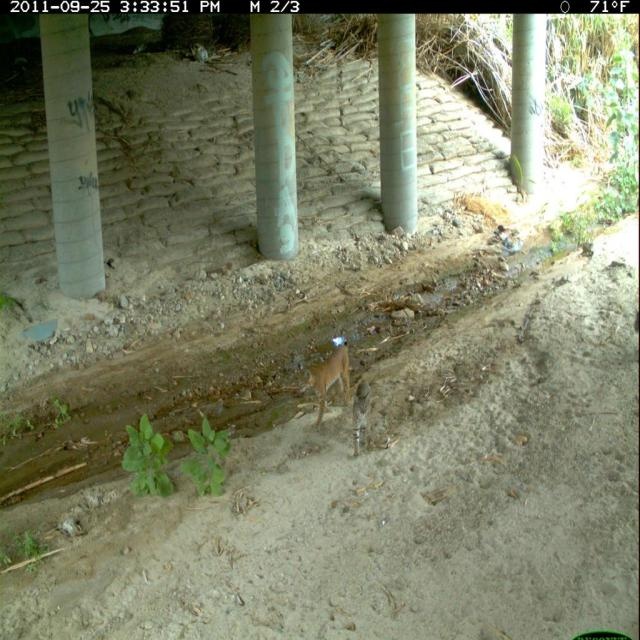bobcat: (294, 338, 354, 435), (350, 373, 378, 464), (633, 308, 640, 338)
